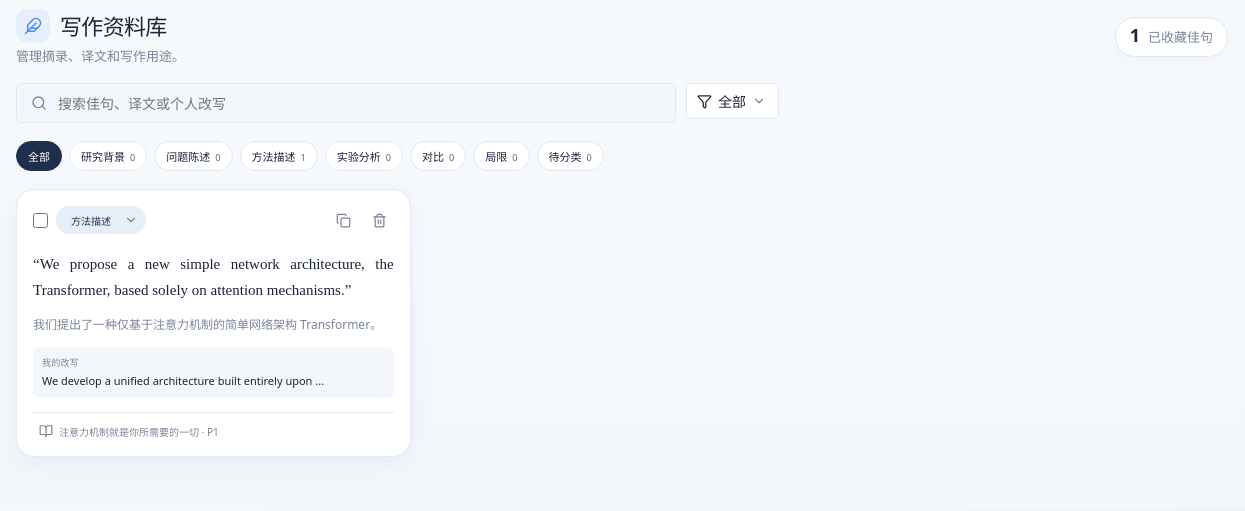
Test case: writing library errors › shows an error when copying an excerpt fails
This screenshot has width=1245, height=511.
Click the button titled "复制". click: coordinates (344, 220)
box: 330,206 -> 358,234
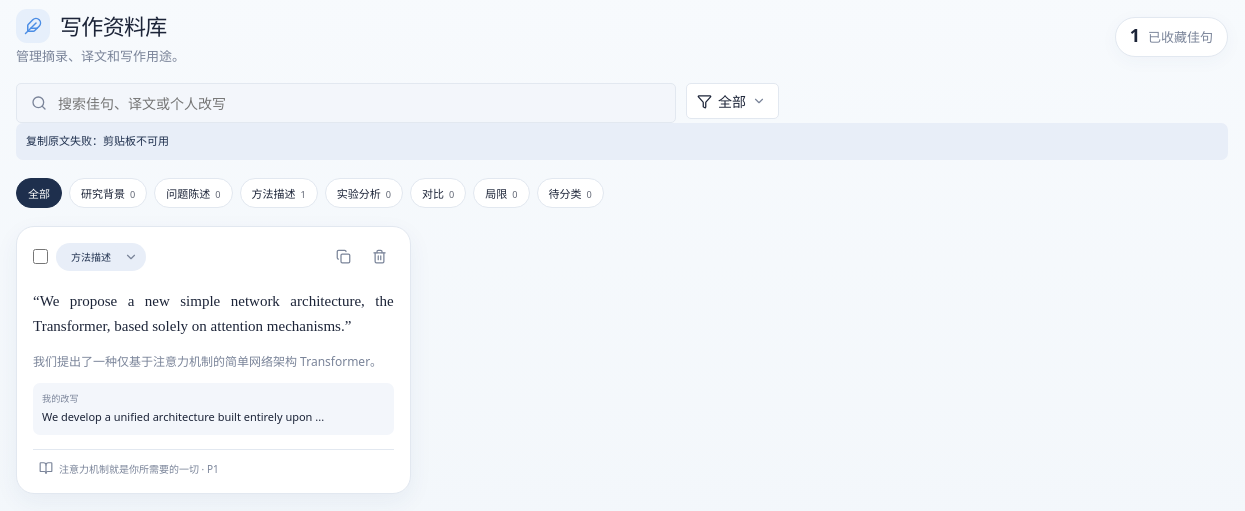
Result: the message reads "复制原文失败：剪贴板不可用" at 26,133 -> 169,148
